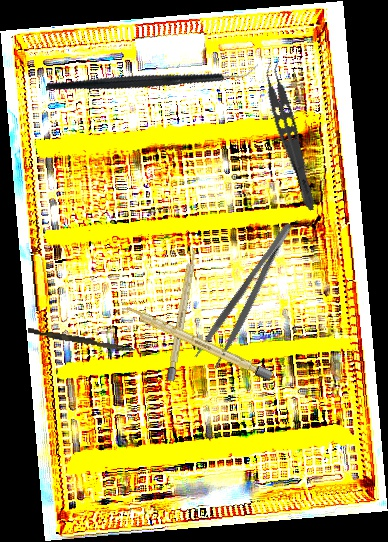Chopper: (45, 5, 259, 148)
Dressing Forceps: (191, 219, 308, 372)
Pusher: (27, 327, 136, 353)
Scalpel Handle: (120, 302, 274, 382), (166, 246, 198, 382)
Tissue Forceps: (256, 57, 329, 213)
